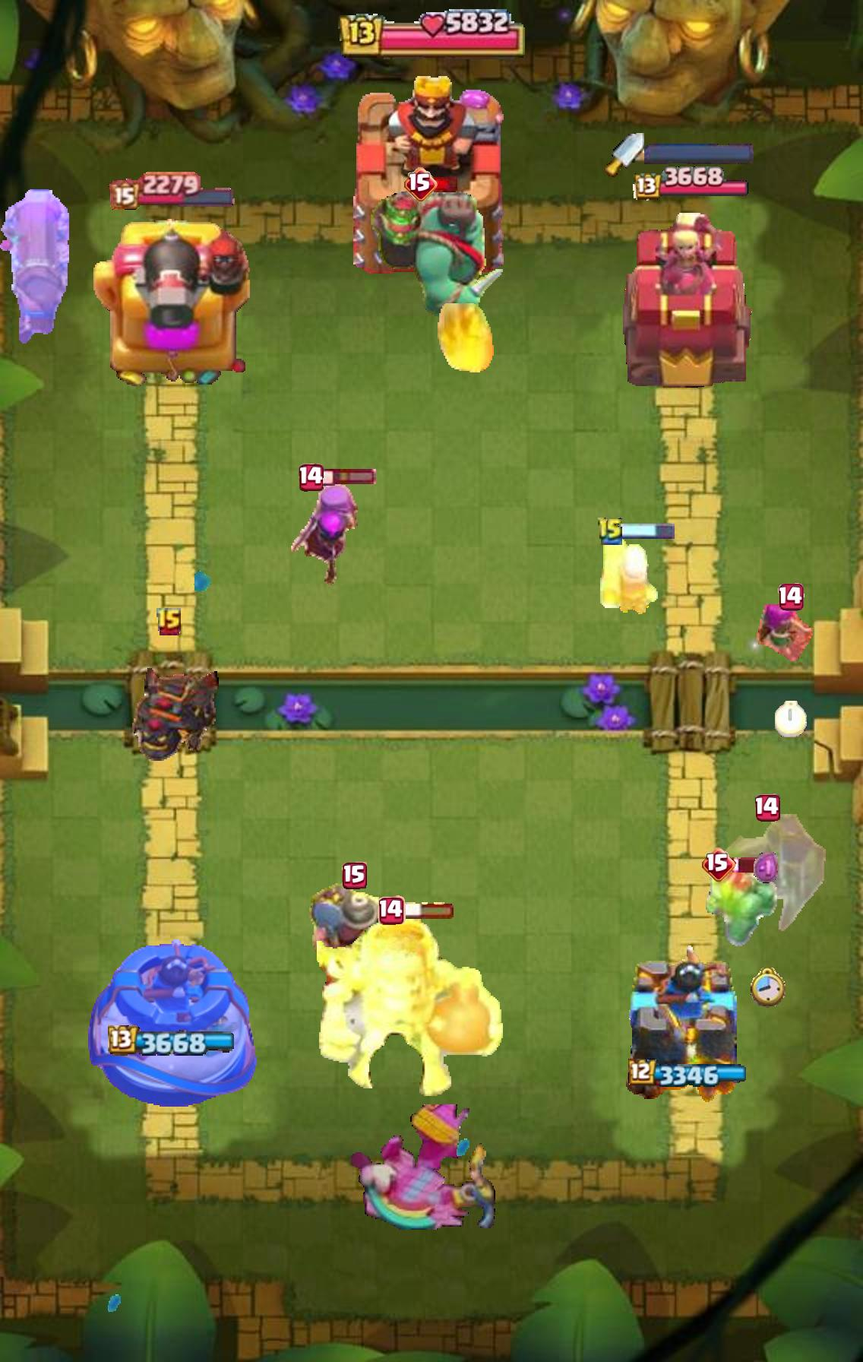elixir: (753, 850, 781, 885)
